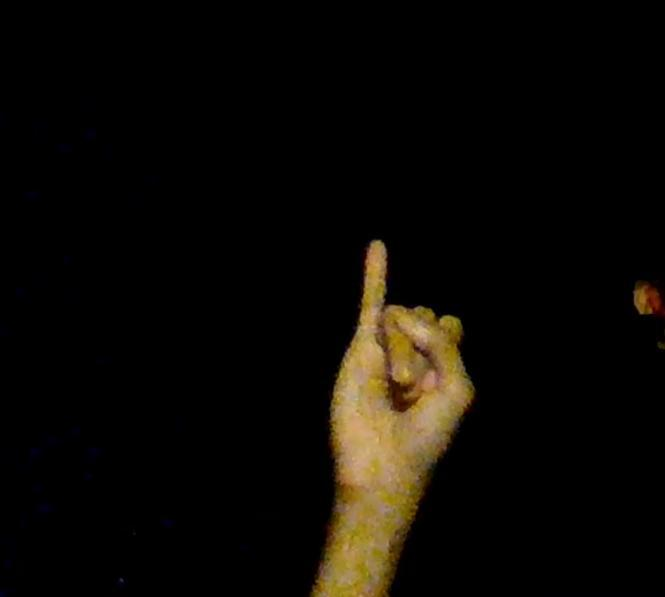i: (333, 242, 479, 487)
